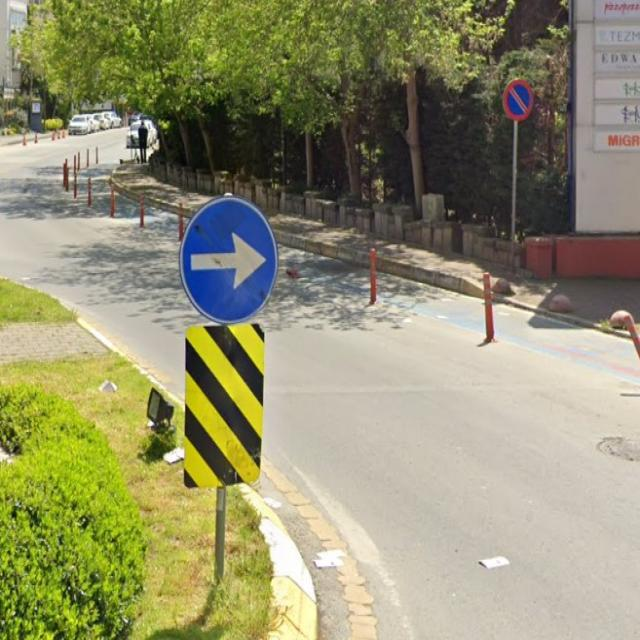Turn Right: (176, 195, 282, 323)
